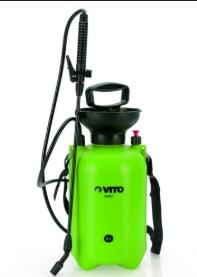PULVERISATEUR: (26, 0, 197, 277)
